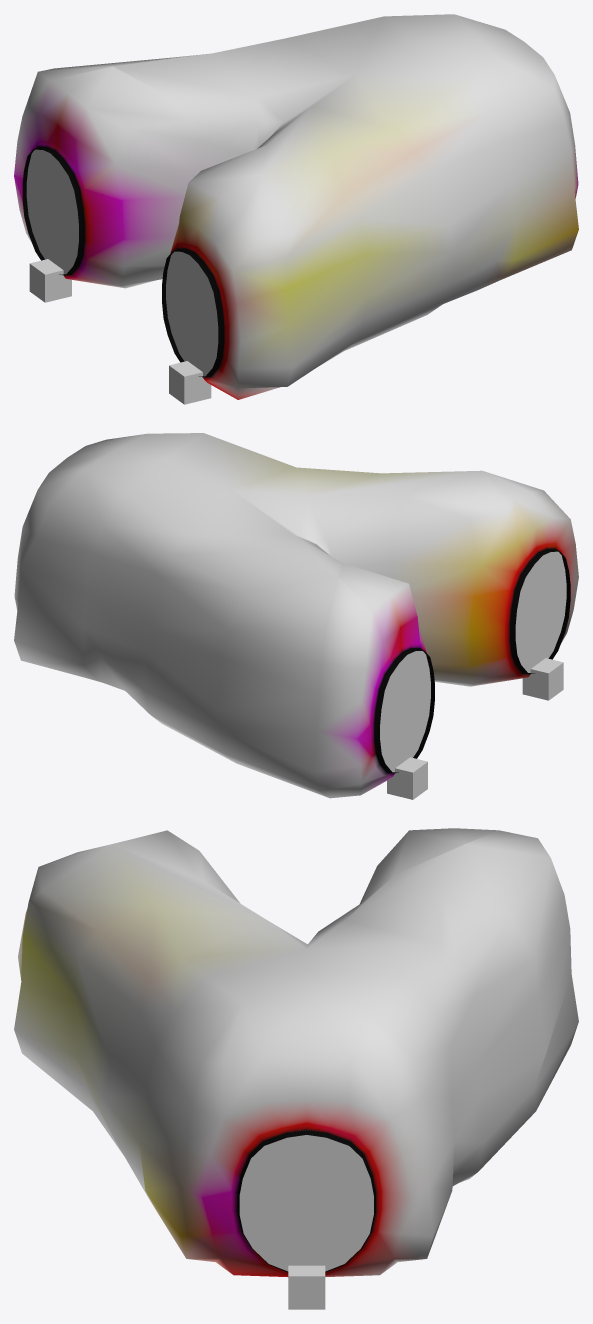
File: CorridorV.FBX
3 renders of one model, top to bottom at view 1: azimuth 30°, elevation 25°; view 2: azimuth 150°, elevation 25°; view 3: azimuth 270°, elevation 25°, orthographic. The views are drawn at different scales.
Parts seen in each view (by area): view 1: CorridorV_walls, CorridorV_Door2, CorridorV_Door3, CorridorV_DoorSnap2, CorridorV_DoorSnap3; view 2: CorridorV_walls, CorridorV_Door3, CorridorV_Door2, CorridorV_DoorSnap3, CorridorV_DoorSnap2; view 3: CorridorV_walls, CorridorV_Door1, CorridorV_DoorSnap1.
Boxes of the visible parts, left/top/right/bottom form: CorridorV_walls: left=14, top=14, right=578, bottom=399; CorridorV_Door2: left=26, top=149, right=78, bottom=274; CorridorV_Door3: left=166, top=251, right=218, bottom=376; CorridorV_DoorSnap2: left=29, top=259, right=71, bottom=302; CorridorV_DoorSnap3: left=169, top=361, right=211, bottom=404; CorridorV_walls: left=14, top=433, right=578, bottom=798; CorridorV_Door3: left=515, top=551, right=566, bottom=672; CorridorV_Door2: left=380, top=651, right=430, bottom=772; CorridorV_DoorSnap3: left=522, top=658, right=563, bottom=700; CorridorV_DoorSnap2: left=387, top=757, right=427, bottom=799; CorridorV_walls: left=14, top=828, right=578, bottom=1276; CorridorV_Door1: left=239, top=1130, right=373, bottom=1271; CorridorV_DoorSnap1: left=288, top=1265, right=325, bottom=1309.
Bounding box in the file's own units: 1700 × 786 × 1533.
